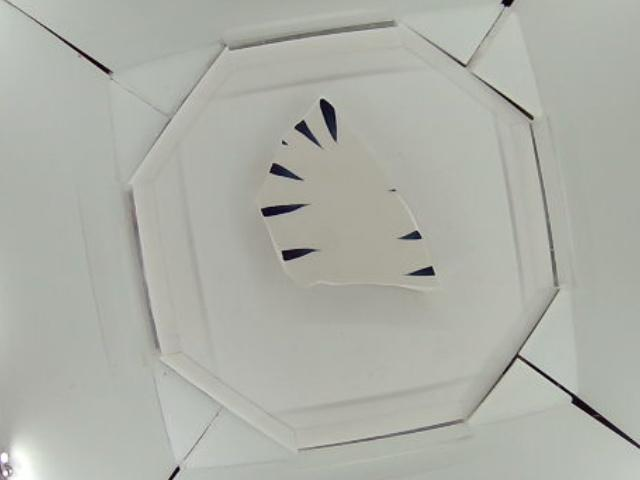China: (257, 93, 443, 292)
